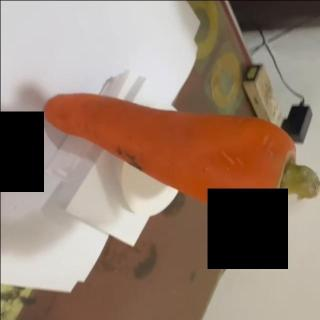carrot: (41, 92, 320, 218)
